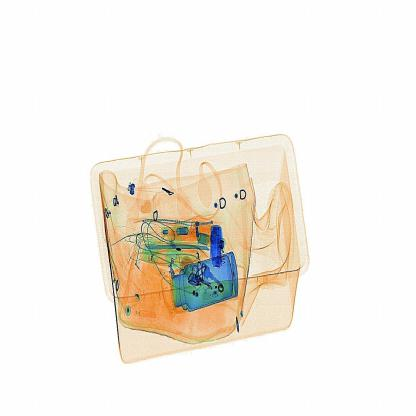scissors: (203, 217, 231, 273)
